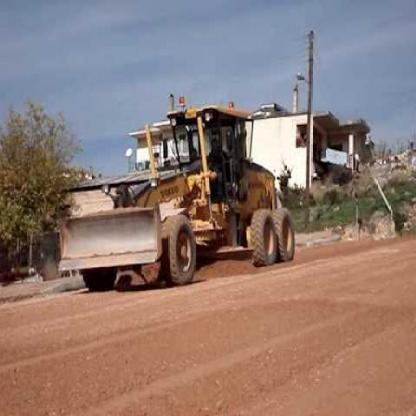bull_dozer/loader/grader: (39, 97, 305, 292)
